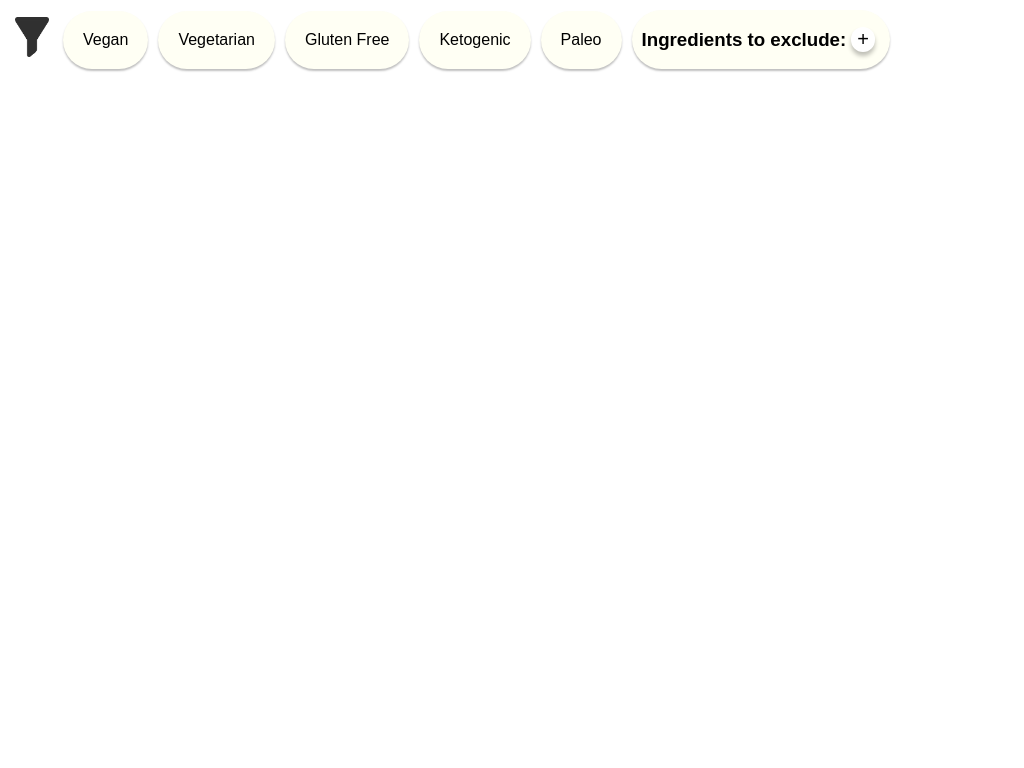
Test: Filter Component › Excluded Ingredients Functionality › Opens exclude ingredients popup
Find and click the '+' button to open excluded ingredients popup
Click the button "+" at (863,40), box top-left (851, 27), bottom-right (875, 52)
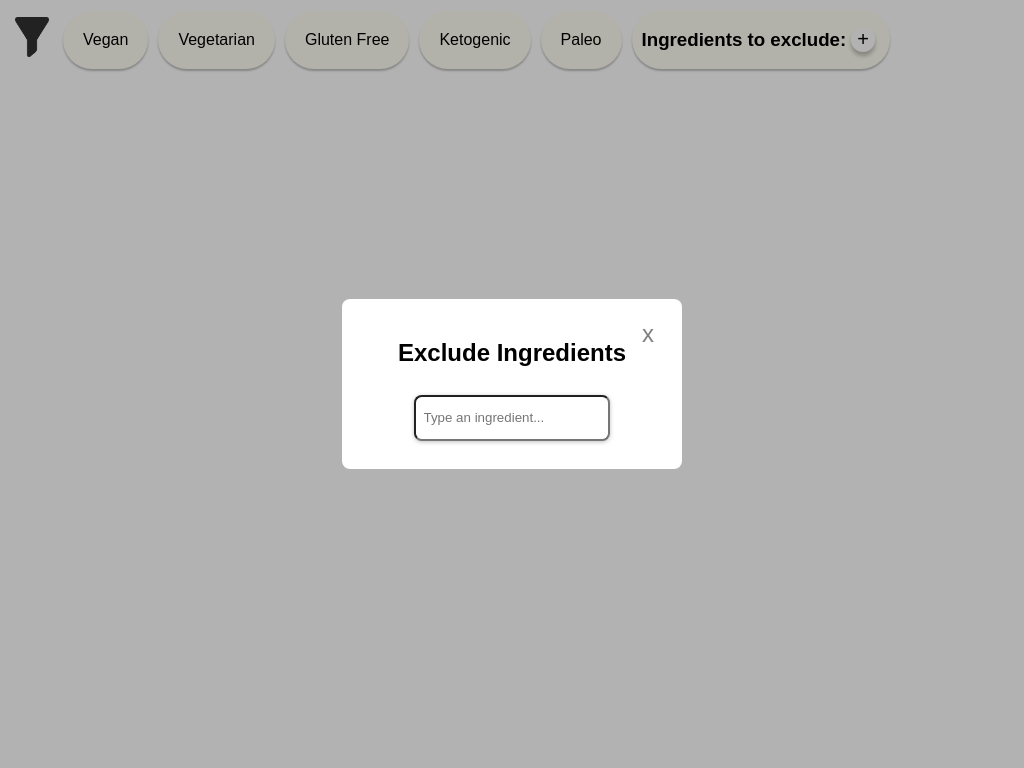
Expected: the heading "Exclude Ingredients" is shown, top-left (398, 339), bottom-right (626, 366)
